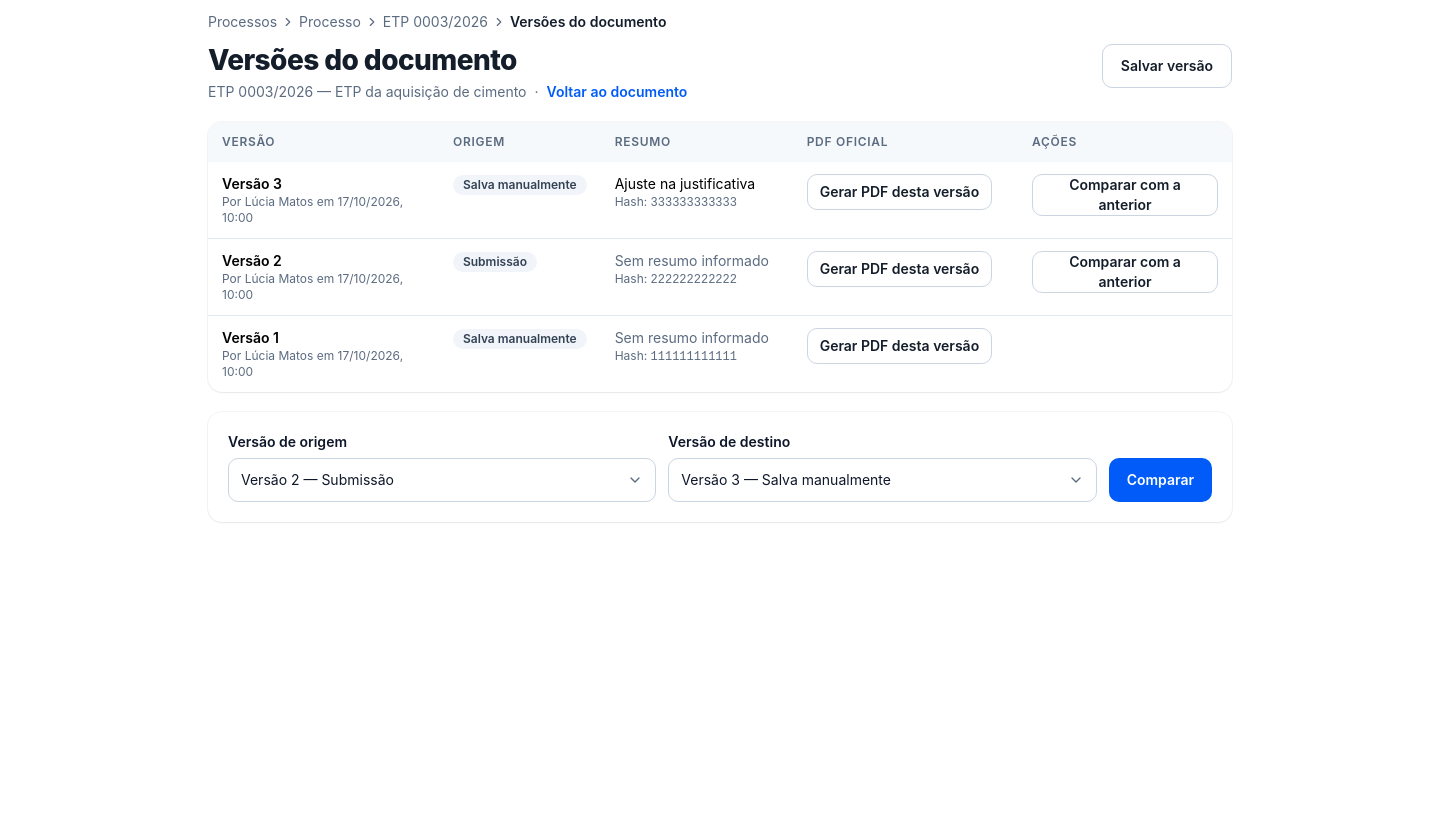
Test: SCR-106 · Versões e comparação (DOC-15/18) › erro ao comparar: mensagem e "Recarregar"
Click the button "Comparar com a anterior" in the row of "Ajuste na justificativa" at (1125, 195), box [1032,174,1218,216]
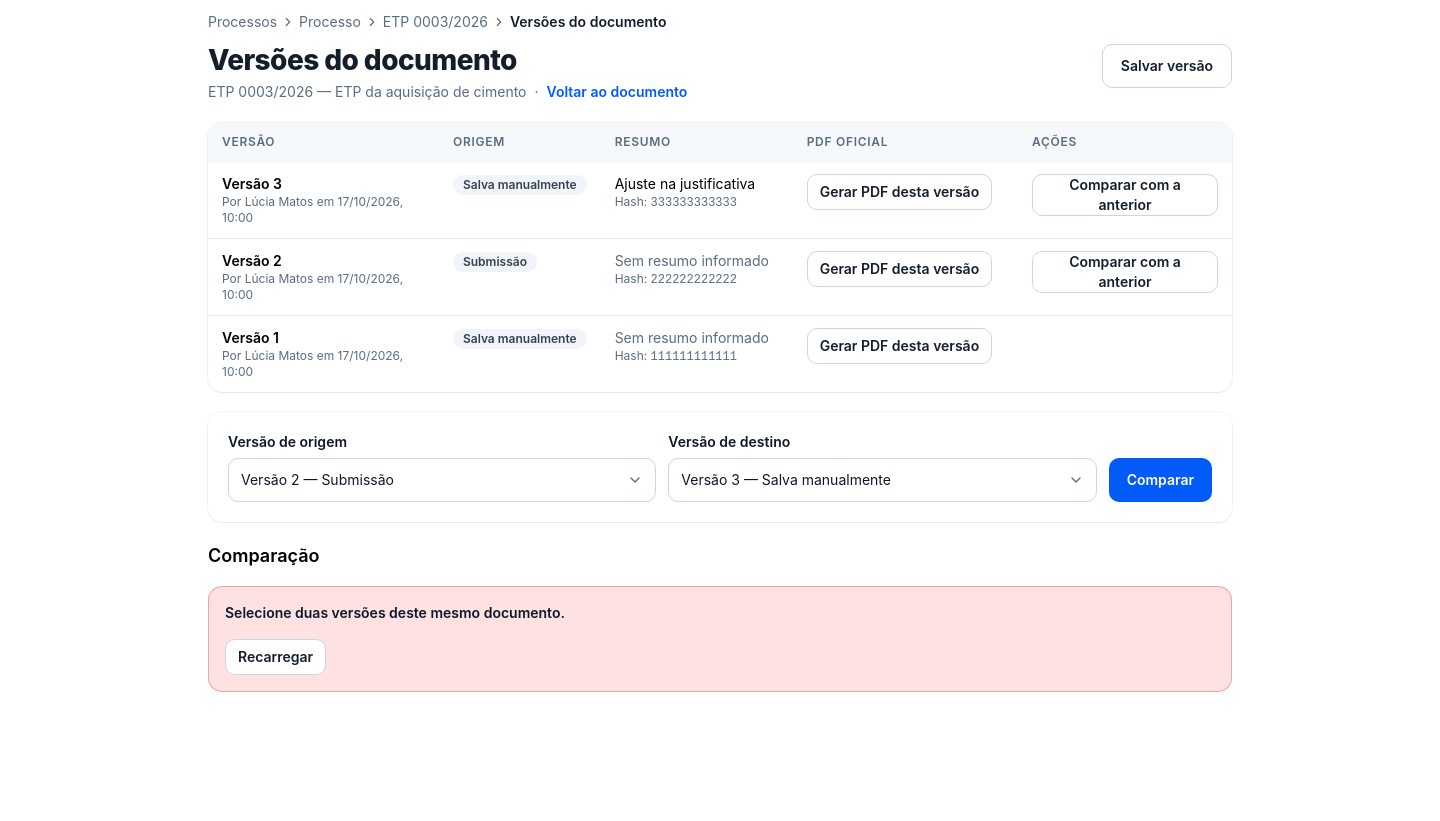
Check: the text "Selecione duas versões deste mesmo documento." is shown, box [225,604,565,621]
Click the button "Recarregar" at (276, 657), box [225,639,326,675]
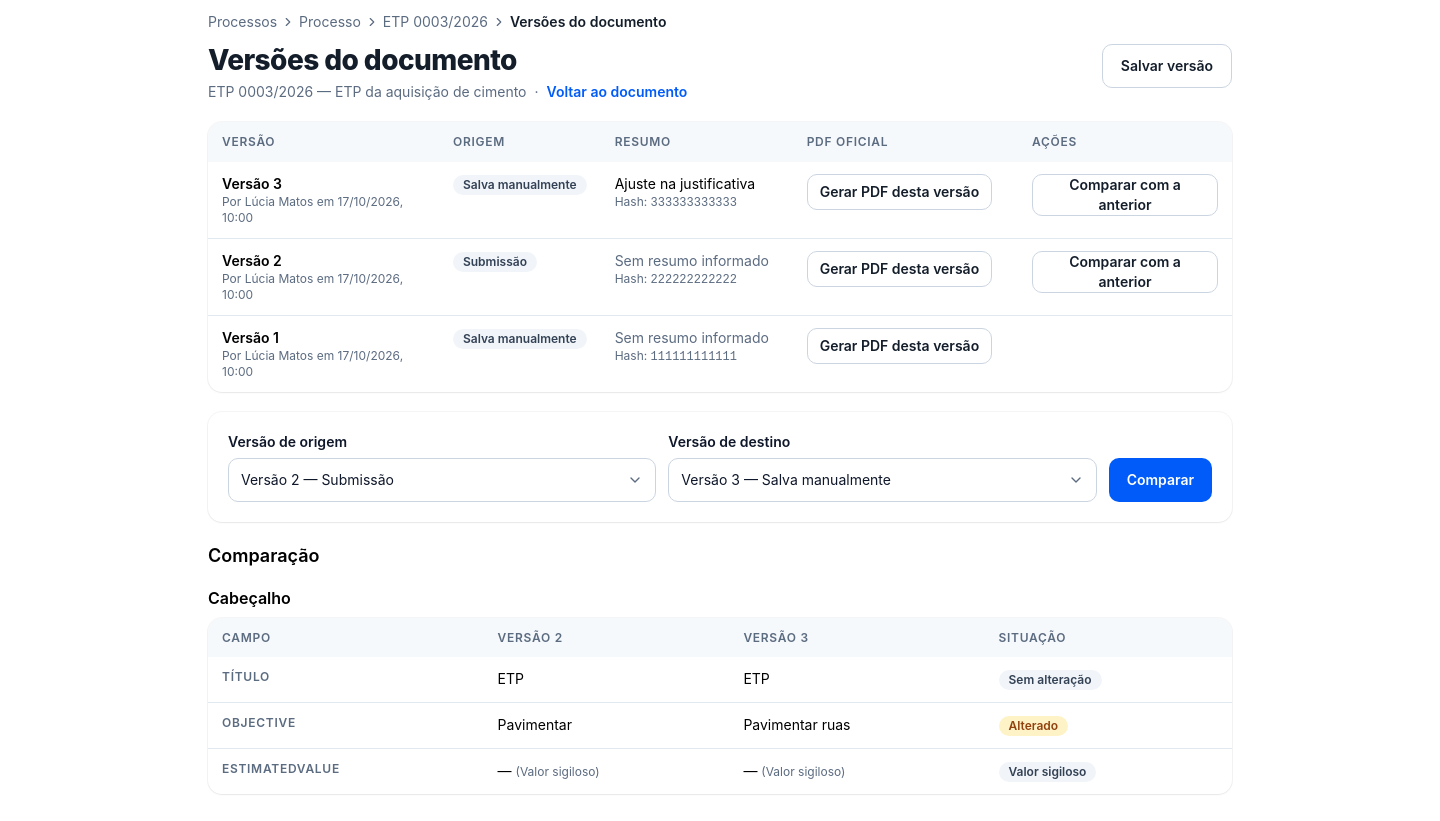
Check: the heading "Cabeçalho" is shown, box [208,588,291,608]
